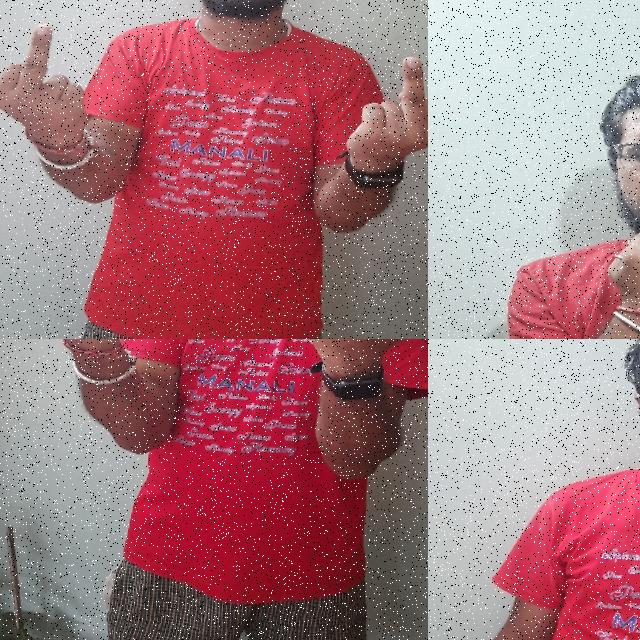Chin Flick: (583, 61, 640, 316)
Corna: (287, 339, 428, 394)
Middle Finger: (0, 11, 102, 165), (334, 42, 428, 198)
